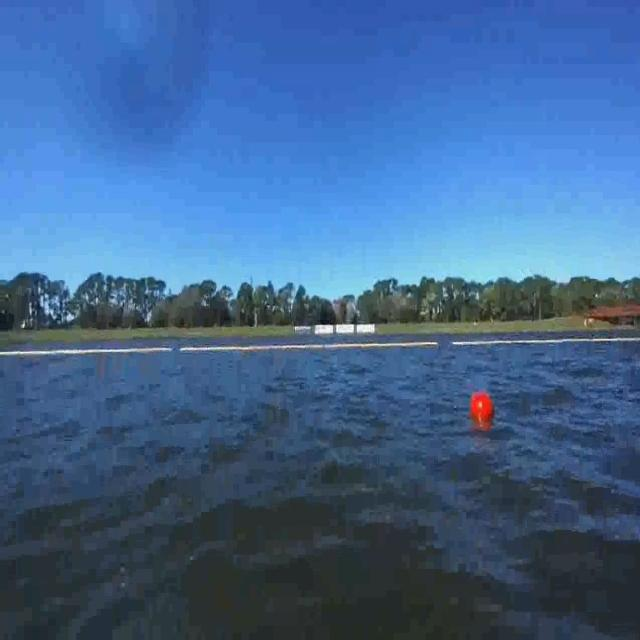red-buoy: (472, 393, 494, 422)
